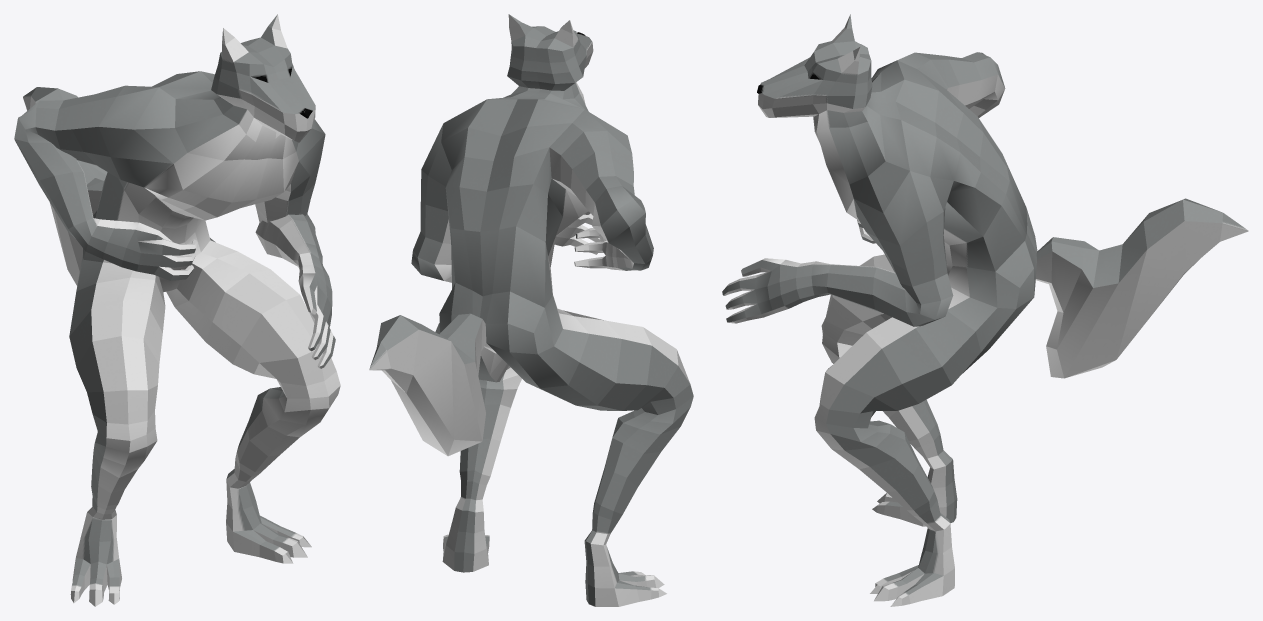
Rendered from WolfIdle_(57).obj.
3 views of the same model, side by side, from view 1: azimuth 30°, elevation 25°; view 2: azimuth 150°, elevation 25°; view 3: azimuth 270°, elevation 25° (orthographic). The views are drawn at different scales.
Parts seen in each view (by area): view 1: Box001; view 2: Box001; view 3: Box001.
Boxes of the visible parts, x1,y1,x2,y2 form: Box001: (14, 14, 340, 606); Box001: (369, 14, 693, 606); Box001: (722, 14, 1248, 606).
Size of the model in its own units: 65.89 by 131 by 116.
